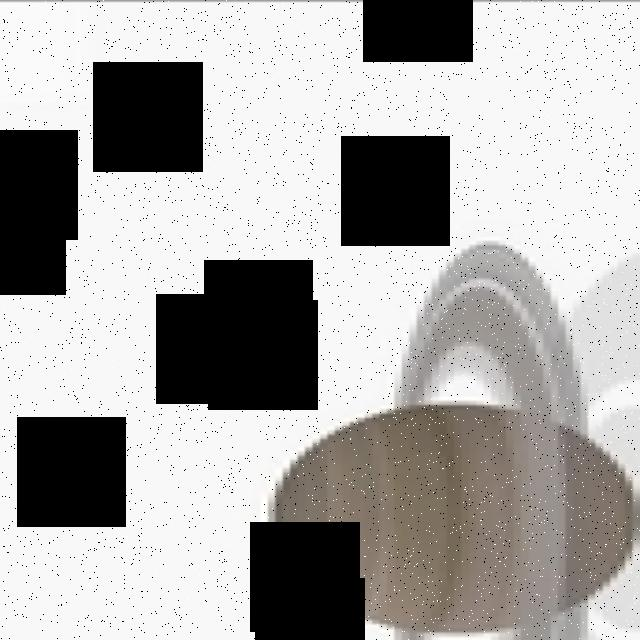Saturn: (260, 240, 640, 640)
